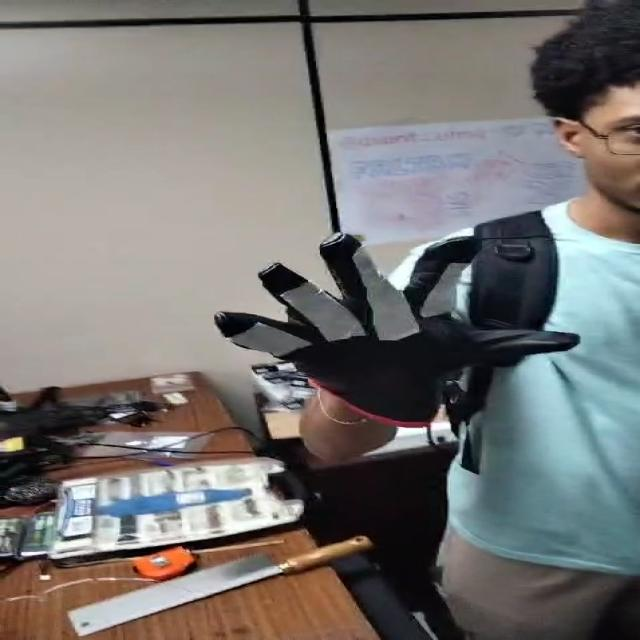Gloves: (214, 235, 576, 426)
